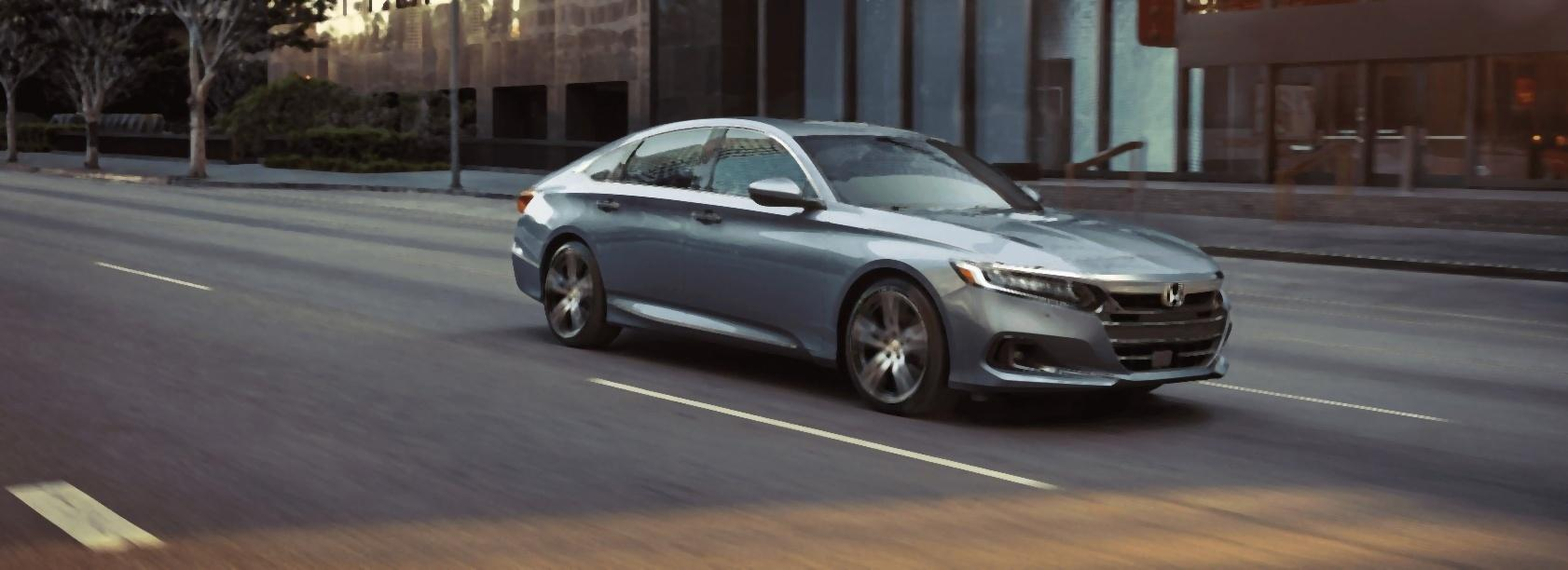Car hood: (863, 205, 1238, 289)
Driver-s door - -F-R-: (666, 101, 824, 364)
Fender - -F-R-: (813, 205, 986, 363)
Fender - -R-L-: (512, 127, 621, 267)
Front bumper: (930, 288, 1240, 402)
Headlight - -R-: (948, 256, 1111, 316)
Passenger-s door - -R-R-: (579, 100, 726, 368)
Rear bumper: (504, 240, 551, 308)
Side bumper - -R-: (599, 290, 835, 386)
Side mirror - -R-: (749, 174, 823, 222)
